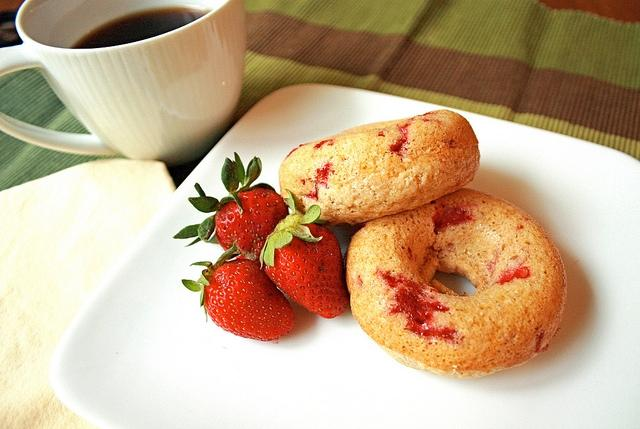strawberry: (172, 152, 288, 264), (260, 189, 350, 319), (204, 258, 300, 342)
